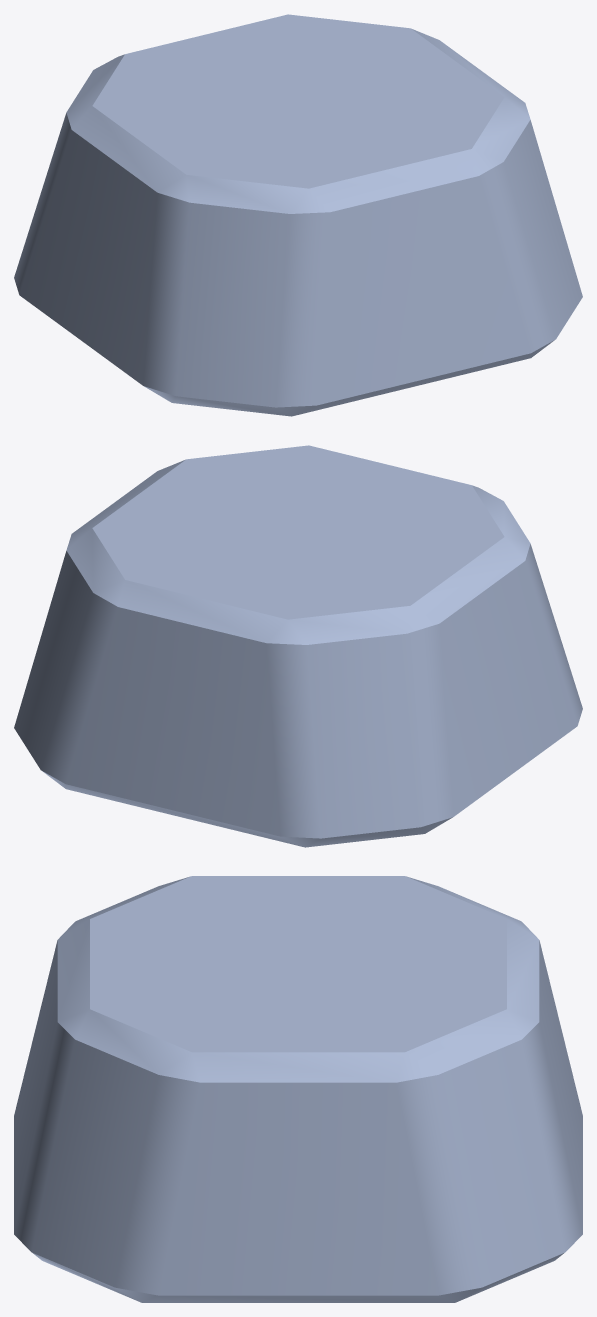
Rendered from fbx_club_sofa3.fbx.
The picture shows the model from 3 angles, top to bottom: view 1: azimuth 30°, elevation 25°; view 2: azimuth 150°, elevation 25°; view 3: azimuth 270°, elevation 25°; orthographic projection. The views are drawn at different scales.
Parts seen in each view (by area): view 1: fbx_club_sofa3; view 2: fbx_club_sofa3; view 3: fbx_club_sofa3.
Part boxes in pixels (x1,y1,x2,y2): fbx_club_sofa3: (14, 14, 582, 416); fbx_club_sofa3: (14, 445, 582, 847); fbx_club_sofa3: (14, 876, 582, 1302).
Size of the model in its own units: 1.46 by 0.6504 by 1.46.
1 material, 1 textured.
